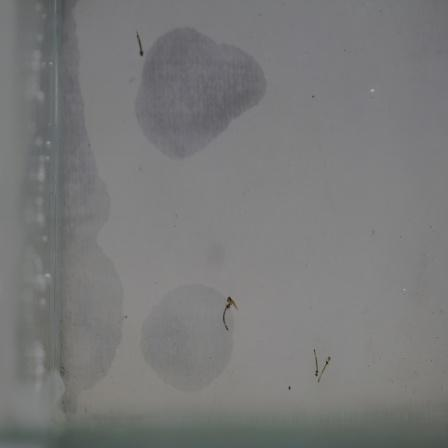Jentik-Nyamuk: (219, 292, 242, 335), (309, 346, 333, 386), (129, 29, 151, 60)
